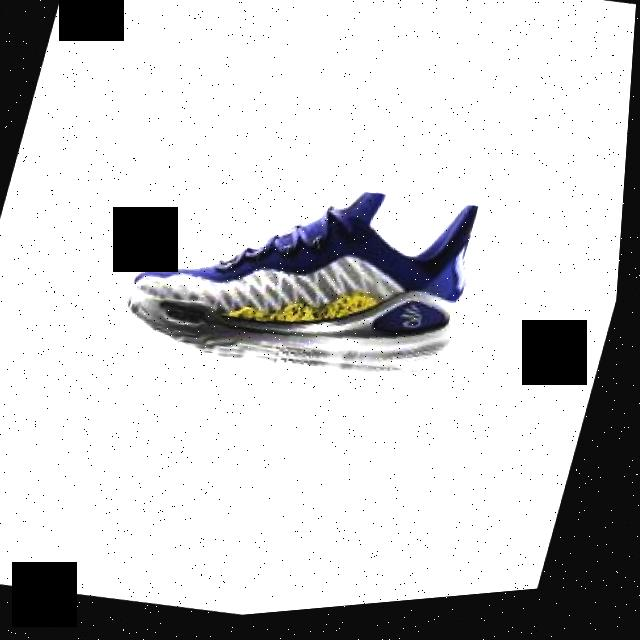shoe: (113, 145, 501, 418)
